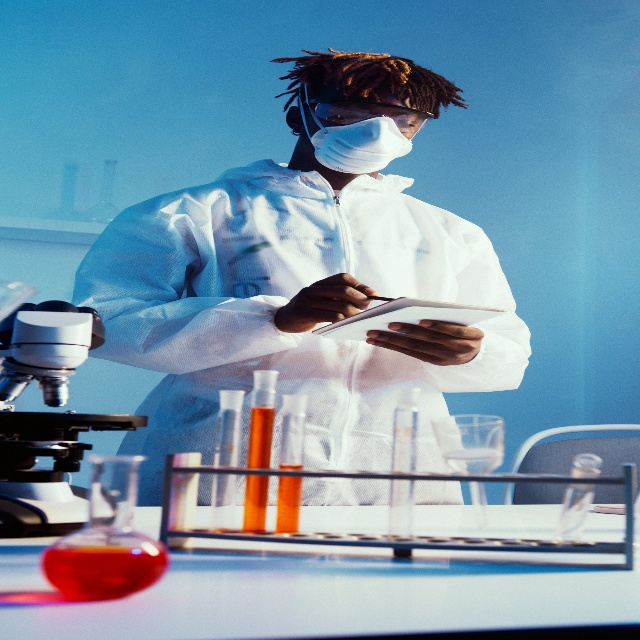Gafas: (308, 86, 431, 140)
Mascara: (311, 111, 411, 171)
Sin_guantes: (366, 304, 483, 374), (276, 262, 372, 333)
